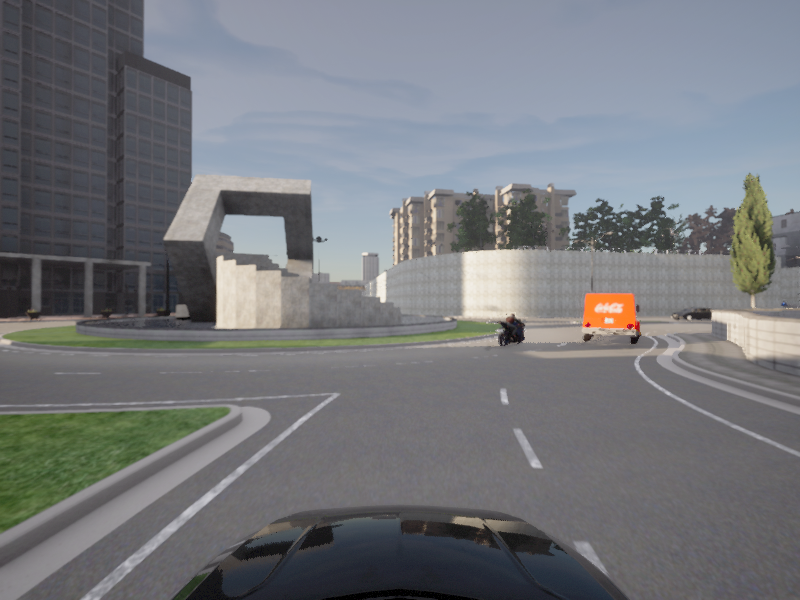vehicle: (578, 292, 640, 346), (490, 312, 532, 348)
